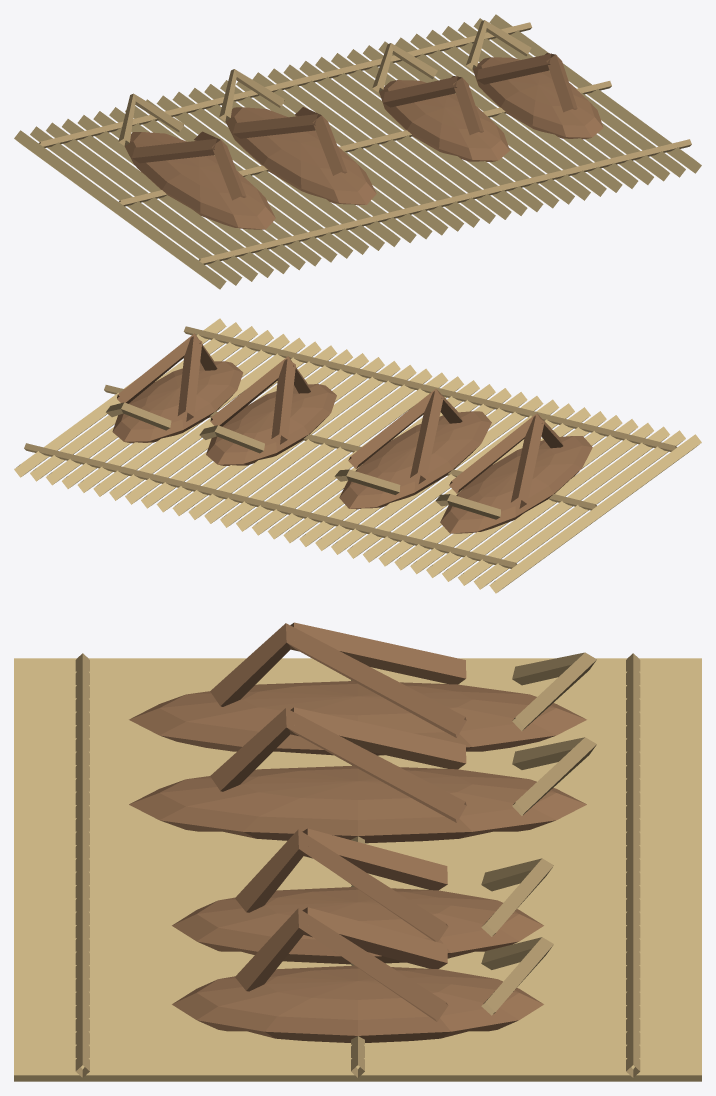
The picture shows the model from 3 angles, top to bottom: view 1: azimuth 30°, elevation 25°; view 2: azimuth 150°, elevation 25°; view 3: azimuth 270°, elevation 25°; orthographic projection. The views are drawn at different scales.
Parts seen in each view (by area): view 1: BA-0056 batched; view 2: BA-0056 batched; view 3: BA-0056 batched.
Boxes of the visible parts, x1,y1,x2,y2 form: BA-0056 batched: (14, 14, 701, 289); BA-0056 batched: (14, 318, 701, 593); BA-0056 batched: (14, 622, 701, 1081).
Bounding box in the file's own units: 0.689 × 0.0967 × 0.48.
